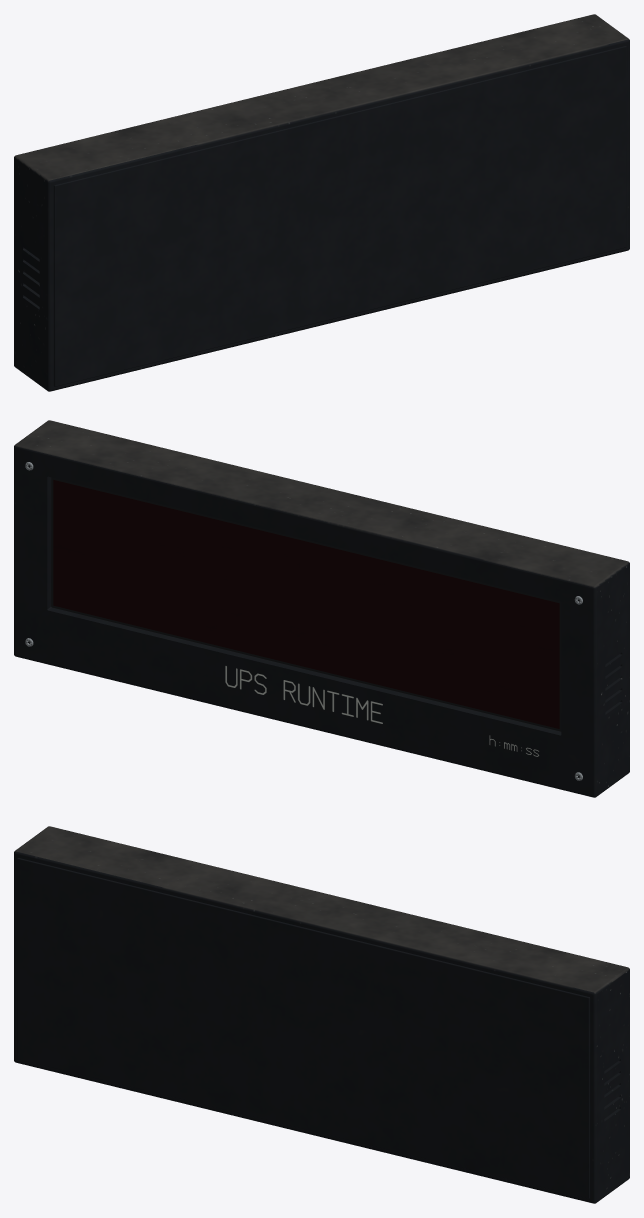
The model's file is wall_clock_countdown.glb.
3 renders of one model, top to bottom at view 1: azimuth 30°, elevation 25°; view 2: azimuth 150°, elevation 25°; view 3: azimuth 330°, elevation 25°, orthographic.
Parts seen in each view (by area): view 1: body; view 2: body, screen; view 3: body.
Part boxes in pixels (x1,y1,x2,y2): body: [14, 14, 629, 391]; body: [14, 420, 629, 797]; screen: [53, 480, 559, 728]; body: [14, 826, 629, 1203].
Size of the model in its own units: 0.46 by 0.16 by 0.0508.
Materials: 3 (3 with a texture image).
